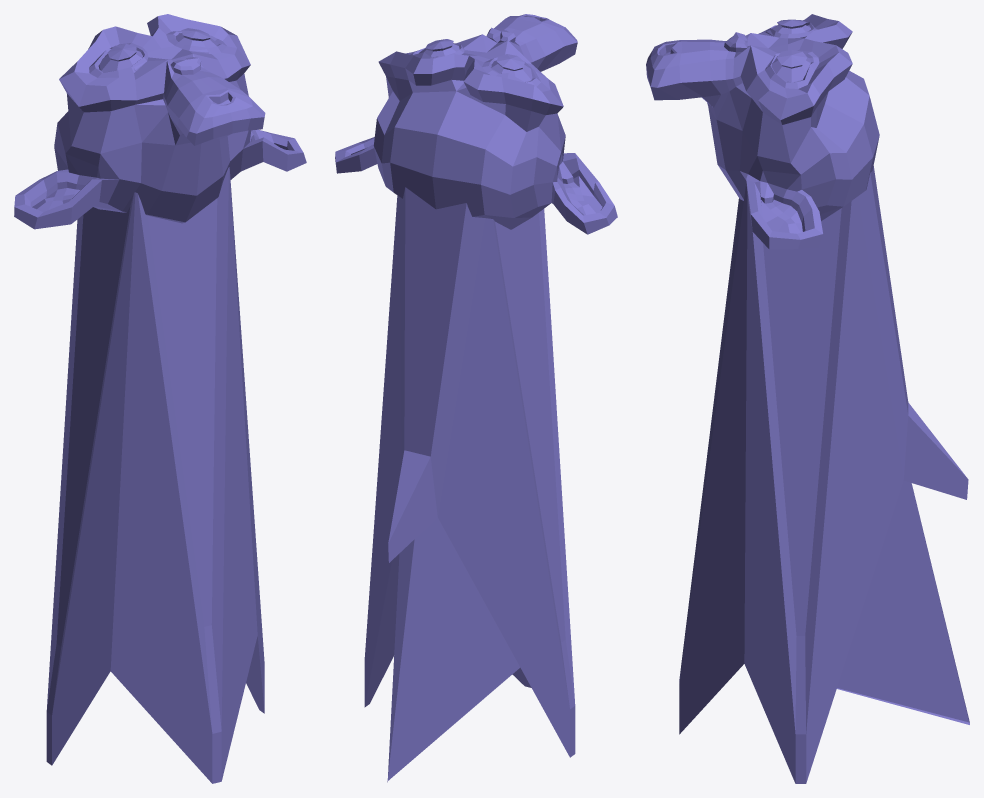
3 renders of one model, left to right at view 1: azimuth 30°, elevation 25°; view 2: azimuth 150°, elevation 25°; view 3: azimuth 270°, elevation 25°, orthographic. The views are drawn at different scales.
Visible parts, largest first — view 1: Cube; view 2: Cube; view 3: Cube.
Boxes of the visible parts, bbox=[...] form: Cube: bbox=[14, 14, 306, 783]; Cube: bbox=[335, 14, 617, 782]; Cube: bbox=[646, 14, 969, 783].
Bounding box in the file's own units: 4.75 × 11.25 × 4.74.
